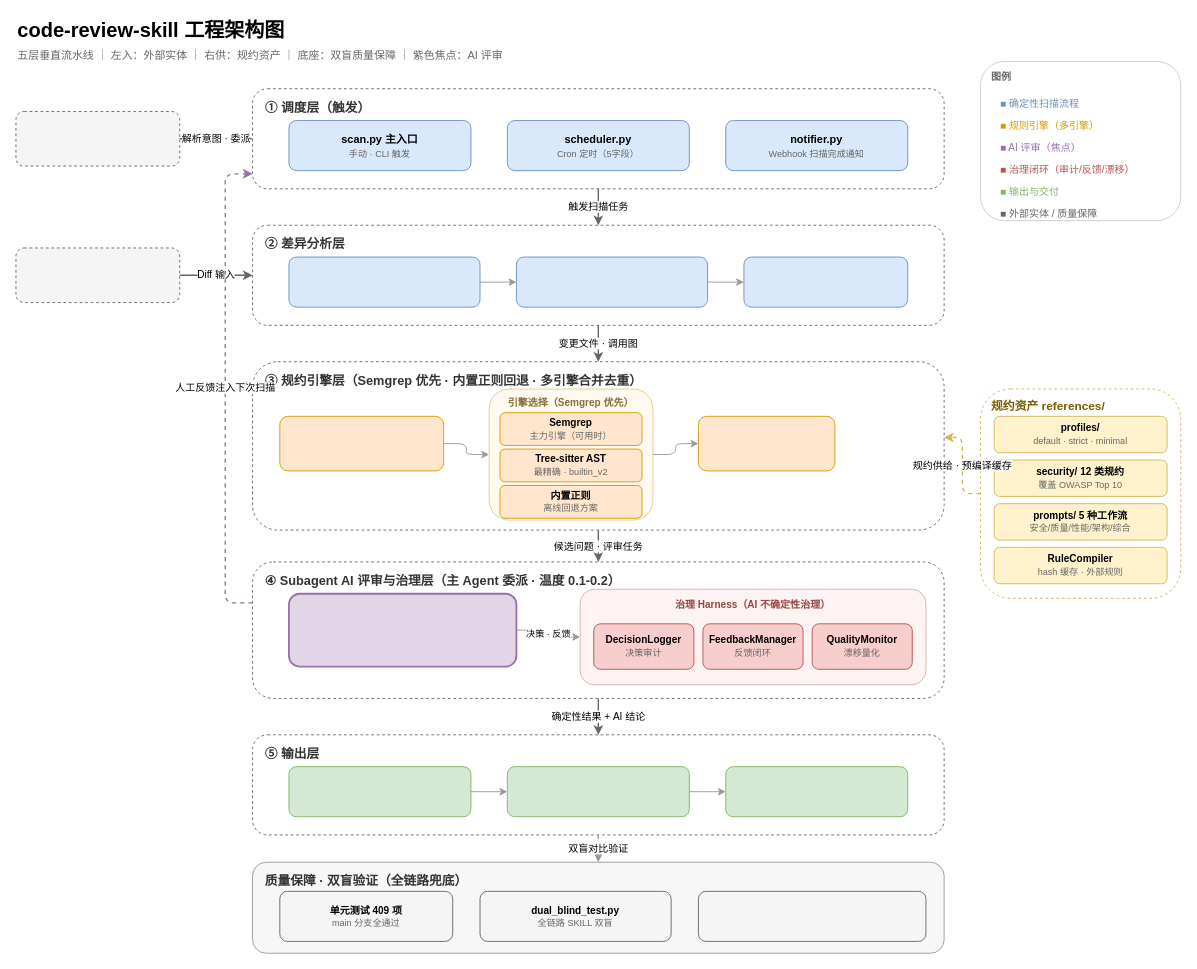
Image size: 1197x969. Some labels were removed from this diagram. Each missing label, with the centre of its shape:
"Git Diff 对比 GitPython · create_patch" belongs at point (384, 281).
"Prefilter 预过滤 13 类测试文件白名单" belongs at point (361, 443).
"ReportGenerator report.json + report.md" belongs at point (379, 791).
"Webhook 通知 CI/CD 集成" belongs at point (816, 791).
"主 Agent（TRAE） 调度者 · 不直接评审" belongs at point (97, 138).
"变更文件提取 changed_files · 增删行统计" belongs at point (612, 281).
"多引擎合并去重 AST > Semgrep > 正则" belongs at point (766, 443).
"子 Agent AI 评审 温度 0.1-0.2 · 误报过滤 ai_confidence · 修复建议" belongs at point (402, 629).
"独立工作空间 .code-review/{scan_id}" belongs at point (597, 791).
"真实仓库双盲 freeCodeCamp · Django · Spring Boot" belongs at point (812, 915).
"被扫描仓库 目标项目（Git）" belongs at point (97, 275).
"调用图 + 血缘 Tree-sitter · affected" belongs at point (825, 281).
